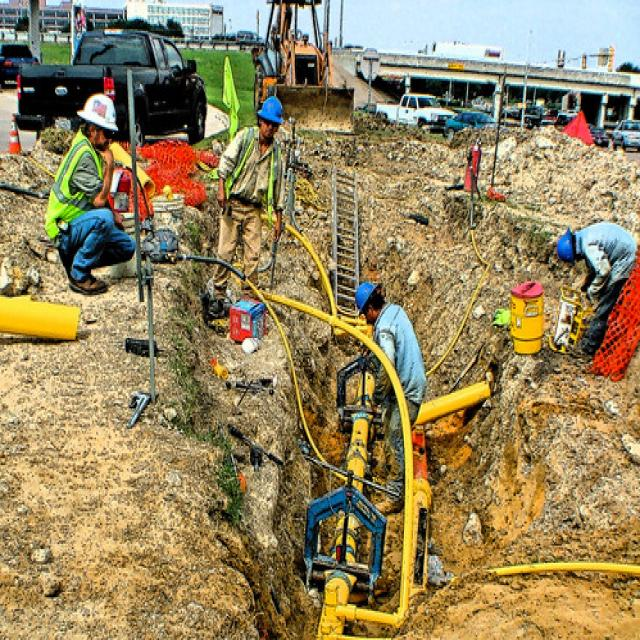Reflective-Jacket: (46, 136, 107, 234), (226, 127, 282, 216)
Safety-Helmet: (77, 91, 119, 132), (352, 276, 379, 314), (257, 94, 286, 127), (556, 230, 574, 261)
